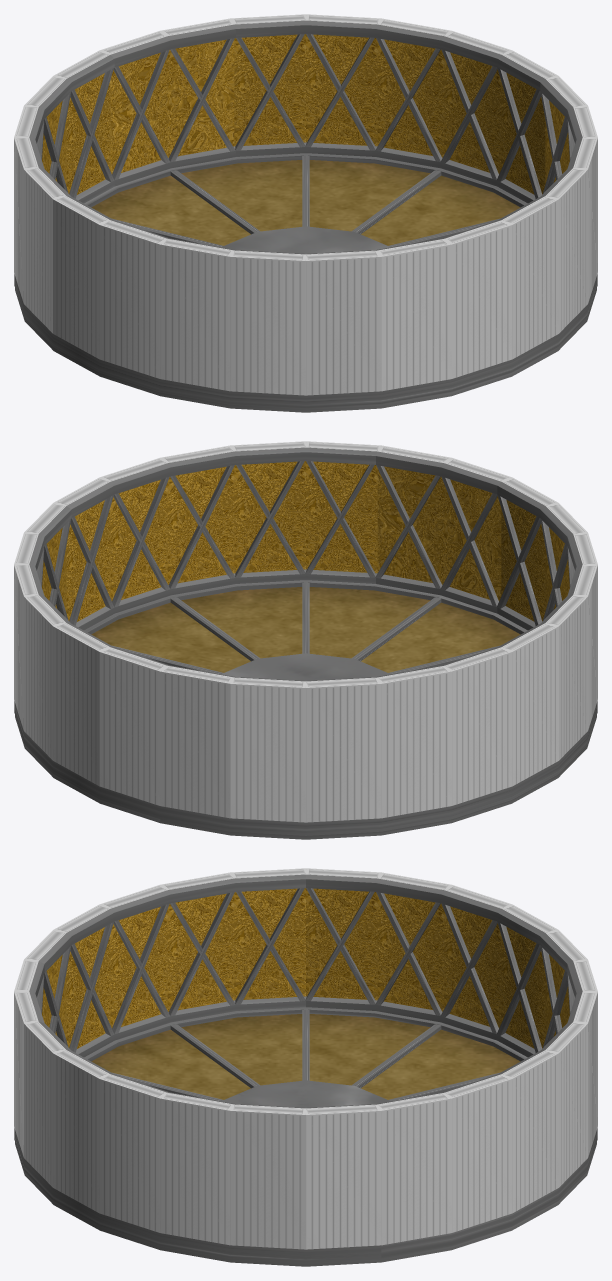
The model's file is LargeServiceBayAlt.FBX.
3 renders of one model, top to bottom at view 1: azimuth 30°, elevation 25°; view 2: azimuth 150°, elevation 25°; view 3: azimuth 270°, elevation 25°, orthographic.
Visible parts, largest first — view 1: OuterDoor004, InnerDoor001, InnterBtmPlate002, Tube002, OuterDoor002, SupportInner, OuterBtmPlate002, OuterDoor003, UpperSupportRing, InnerDoor003, UpperSupportRing002, UpperSupportRing015 (+29 smaller); view 2: OuterDoor003, InnerDoor002, InnterBtmPlate002, Tube002, OuterDoor001, SupportInner, OuterBtmPlate002, OuterDoor004, UpperSupportRing006, InnerDoor004, UpperSupportRing005, UpperSupportRing015 (+29 smaller); view 3: OuterDoor002, OuterDoor001, InnterBtmPlate002, InnerDoor004, InnerDoor003, OuterBtmPlate002, Tube002, UpperSupportRing010, UpperSupportRing008, UpperSupportRing015, MountingPlate004, UpperSupportRing016 (+27 smaller).
Part boxes in pixels (left/top/right/bottom): OuterDoor004: left=53, top=196, right=381, bottom=395; InnerDoor001: left=234, top=34, right=545, bottom=194; InnterBtmPlate002: left=91, top=160, right=520, bottom=245; Tube002: left=100, top=18, right=512, bottom=391; OuterDoor002: left=502, top=76, right=597, bottom=359; SupportInner: left=110, top=39, right=234, bottom=173; OuterBtmPlate002: left=14, top=274, right=597, bottom=408; OuterDoor003: left=14, top=50, right=109, bottom=333; UpperSupportRing: left=234, top=20, right=544, bottom=90; InnerDoor003: left=42, top=73, right=110, bottom=194; UpperSupportRing002: left=234, top=142, right=535, bottom=203; UpperSupportRing015: left=84, top=153, right=527, bottom=207; OuterDoor003: left=230, top=623, right=558, bottom=822; InnerDoor002: left=66, top=461, right=377, bottom=621; InnterBtmPlate002: left=91, top=587, right=520, bottom=672; Tube002: left=99, top=445, right=511, bottom=818; OuterDoor001: left=14, top=503, right=109, bottom=786; SupportInner: left=377, top=466, right=501, bottom=601; OuterBtmPlate002: left=14, top=701, right=597, bottom=835; OuterDoor004: left=502, top=477, right=597, bottom=760; UpperSupportRing006: left=67, top=447, right=377, bottom=517; InnerDoor004: left=501, top=500, right=569, bottom=621; UpperSupportRing005: left=75, top=569, right=377, bottom=630; UpperSupportRing015: left=84, top=580, right=527, bottom=634; OuterDoor002: left=24, top=1022, right=305, bottom=1249; OuterDoor001: left=306, top=1022, right=587, bottom=1249; InnterBtmPlate002: left=91, top=1014, right=520, bottom=1099; InnerDoor004: left=42, top=888, right=305, bottom=1048; InnerDoor003: left=306, top=888, right=569, bottom=1048; OuterBtmPlate002: left=14, top=1128, right=597, bottom=1262; Tube002: left=14, top=959, right=597, bottom=1157; UpperSupportRing010: left=39, top=874, right=305, bottom=972; UpperSupportRing008: left=306, top=874, right=572, bottom=972; UpperSupportRing015: left=84, top=1007, right=527, bottom=1061; MountingPlate004: left=221, top=1080, right=390, bottom=1107; UpperSupportRing016: left=15, top=1142, right=596, bottom=1266.
Size of what is drawn, in the model's own units: 3.75 by 1.08 by 3.75.
